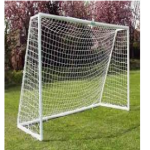goals: (16, 11, 132, 142)
